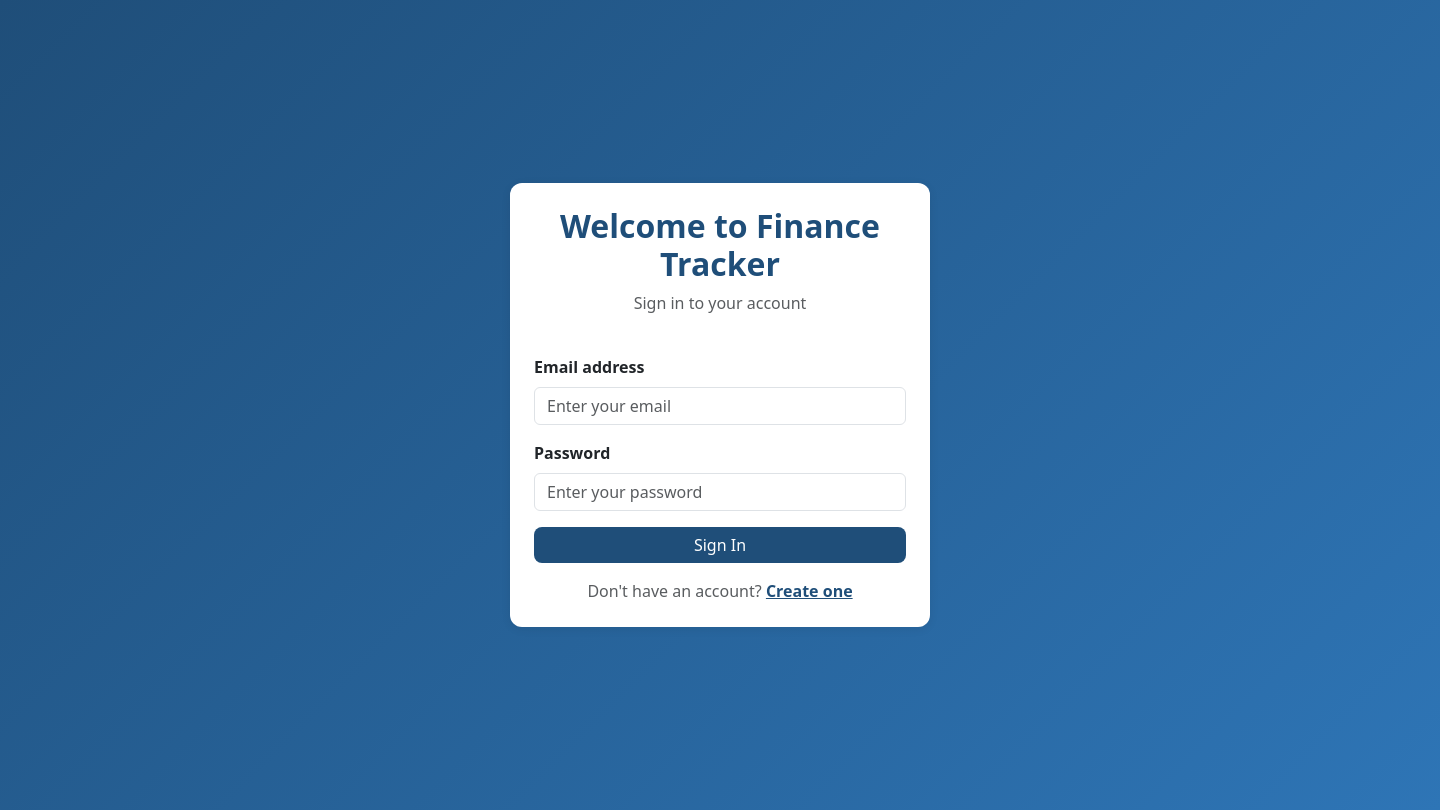
Test: Login Component › UT03 - Shows error message on invalid credentials
In the field with placeholder "Enter your email": (720, 406) 534,387 -> 906,425, type "wrong@gmail.com"
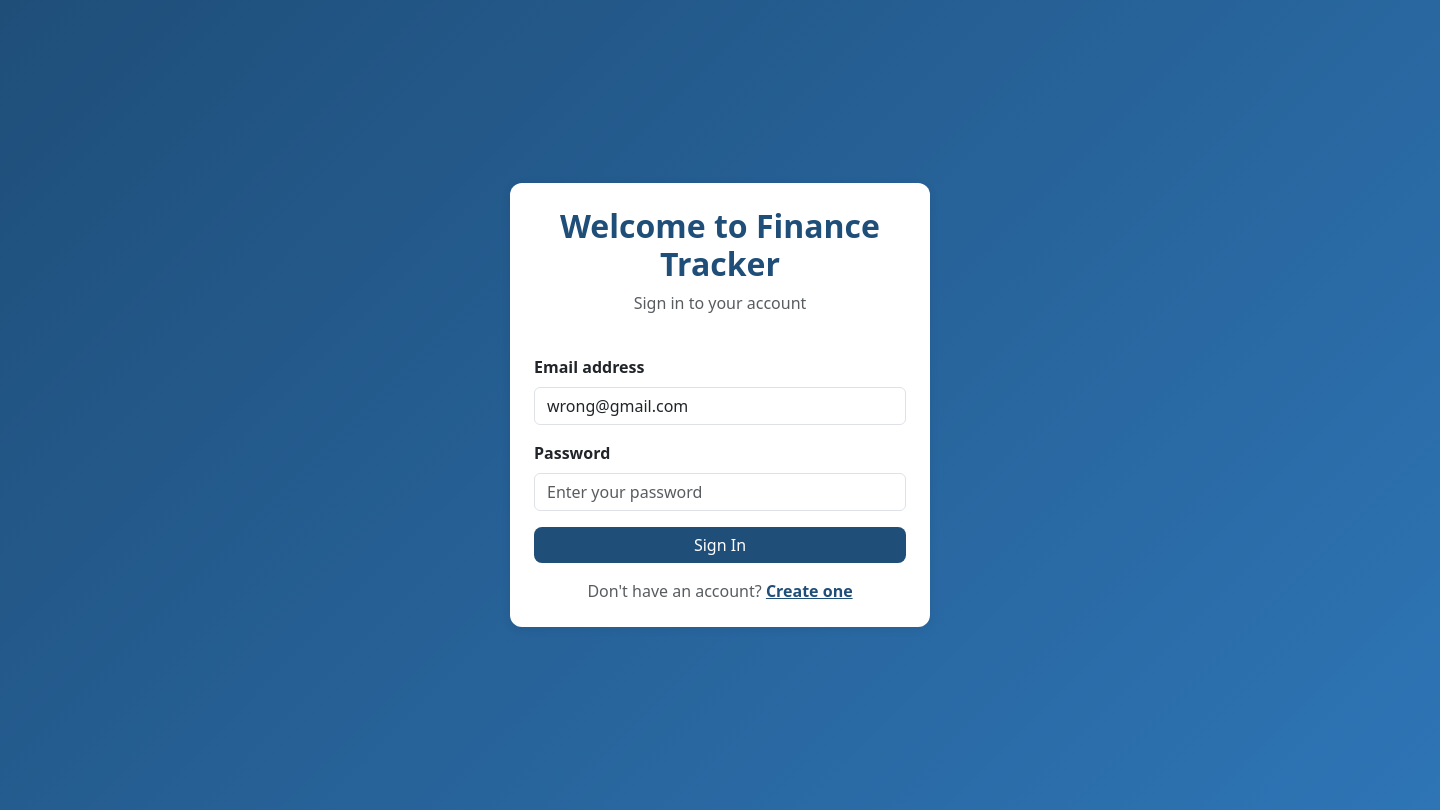
In the password field with placeholder "Enter your password": (720, 492) 534,473 -> 906,511, type "wrongpassword"
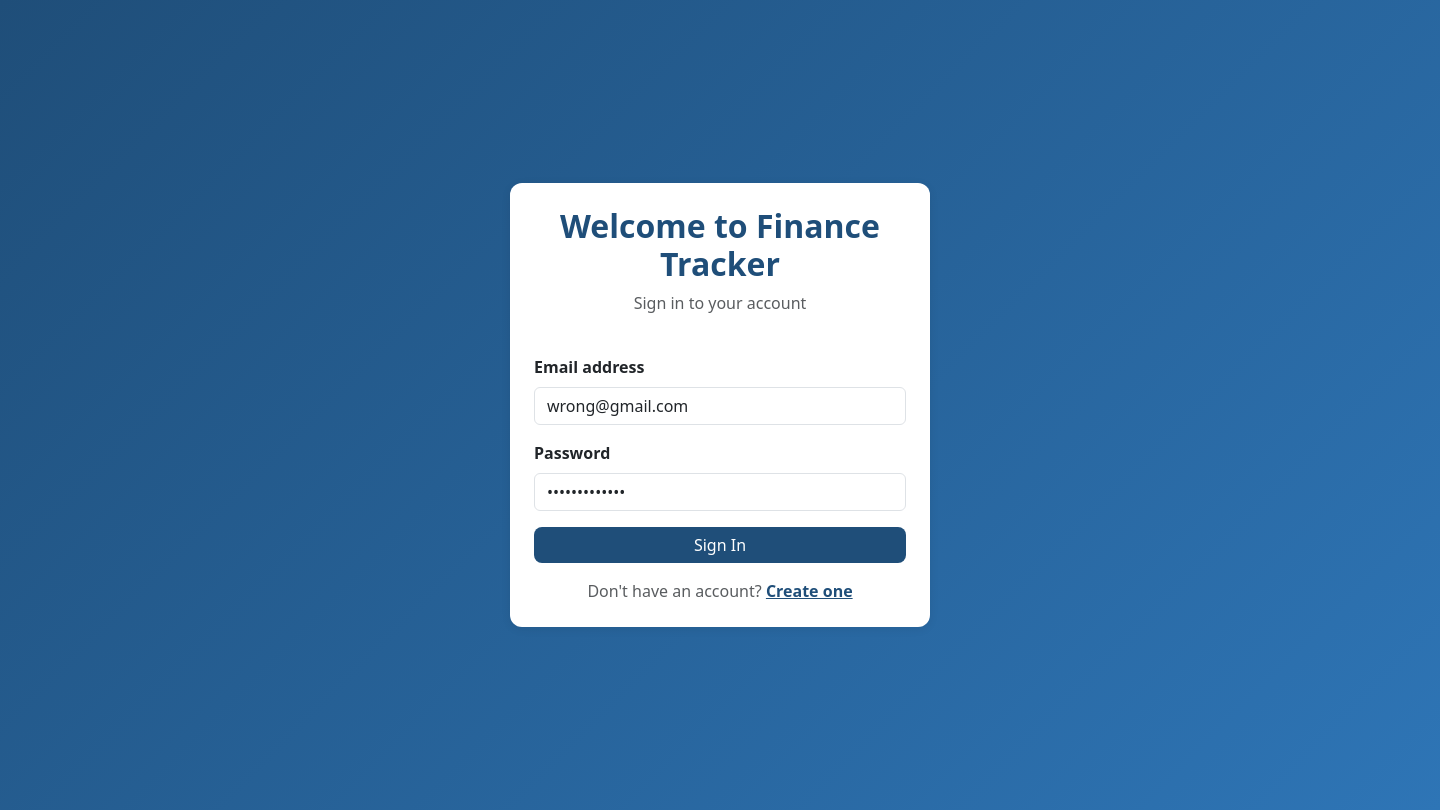
Click the button "Sign In": click(720, 545) 534,527 -> 906,563
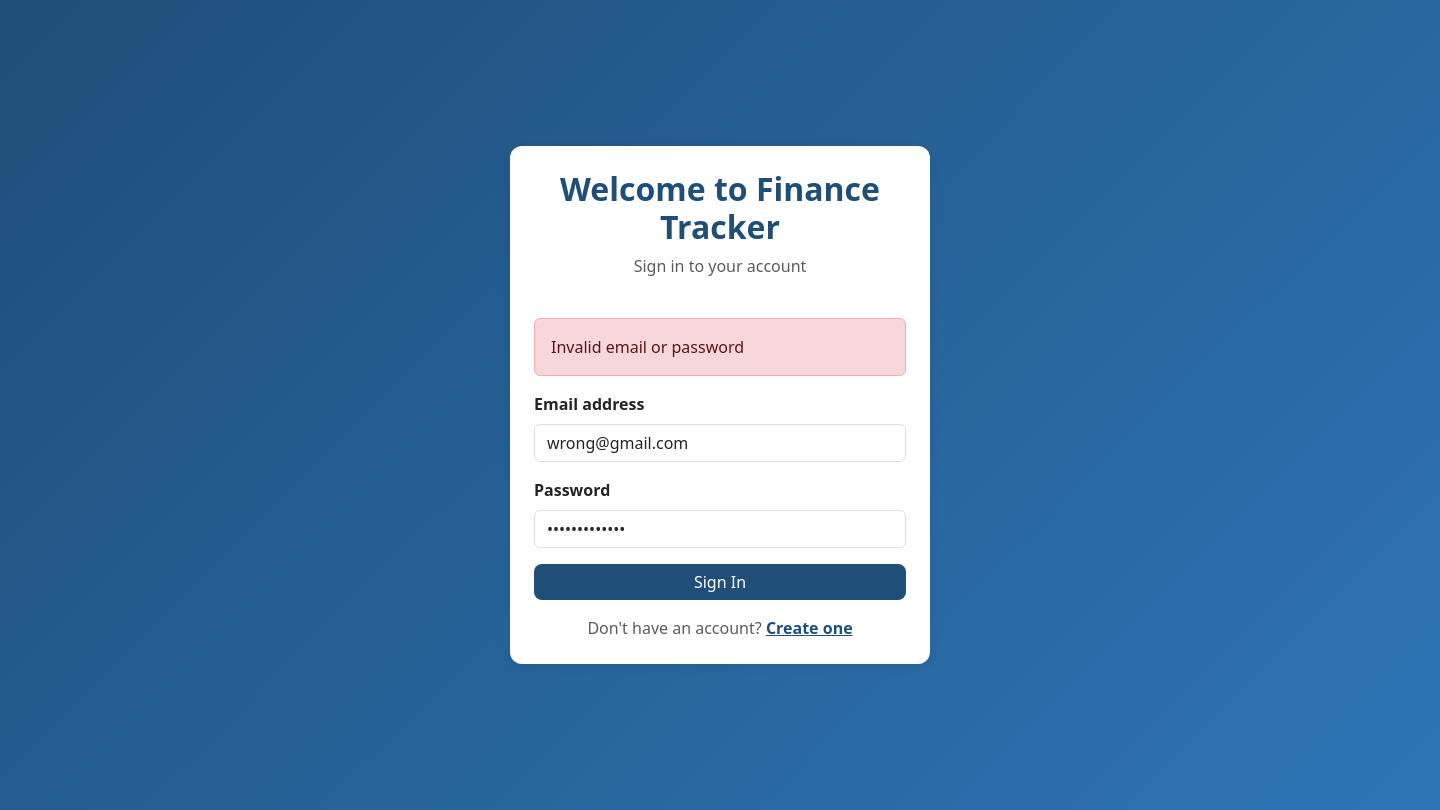
Now the text "Invalid email or password" is shown, box 534,318 -> 906,376
